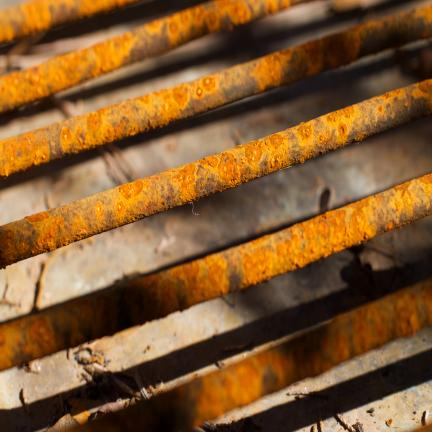karat: (0, 6, 431, 176)
